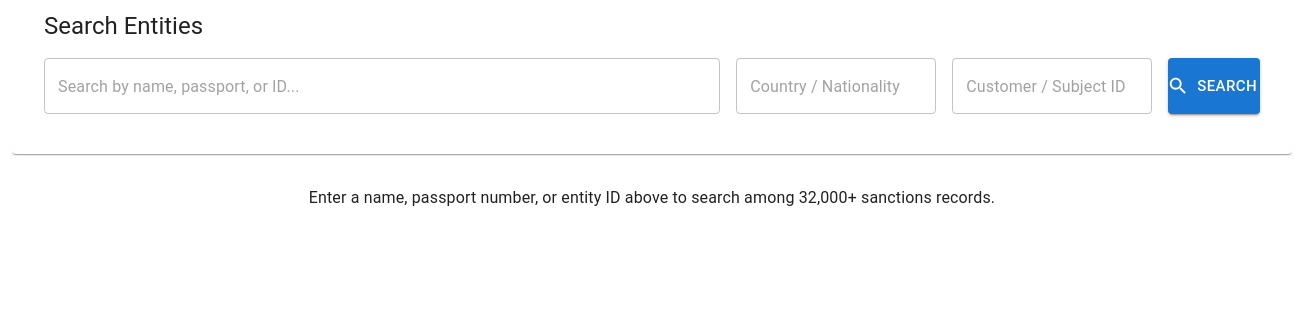
Test case: SearchTab › shows results, match score, and delisted status after a search
The image size is (1304, 327).
Type "Putin" into the field with placeholder "Search by name, passport, or ID..." at (382, 86), box [44, 58, 720, 114]
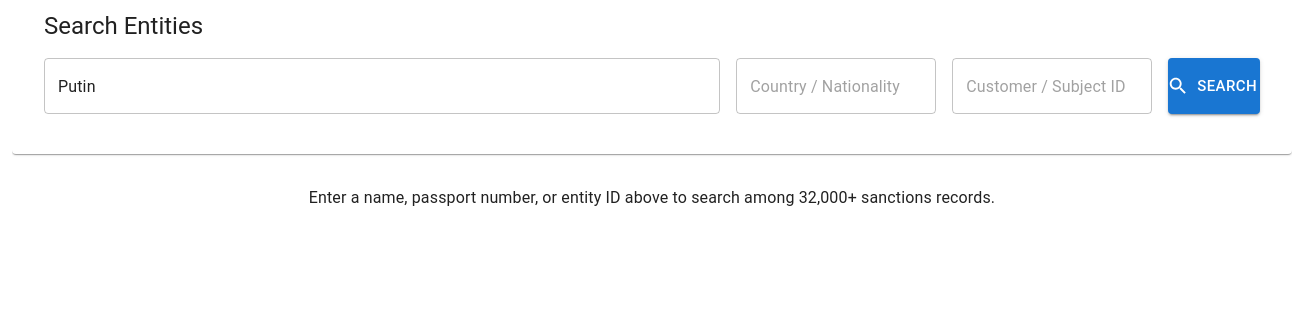
Click the button "Search" at (1214, 86), box [1168, 58, 1260, 114]
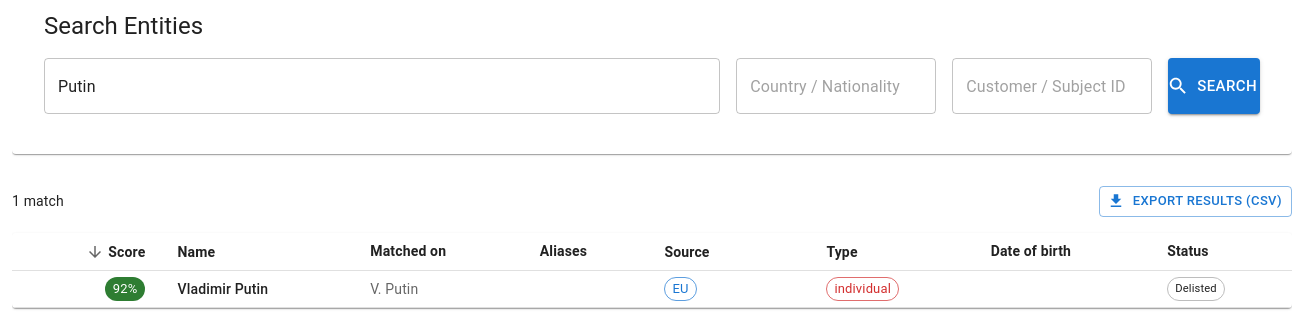
Check: the text "Vladimir Putin" is shown, box [162, 271, 354, 308]
Check: the text "92%" is shown, box [113, 281, 138, 296]
Check: the text "V. Putin" is shown, box [354, 271, 524, 308]
